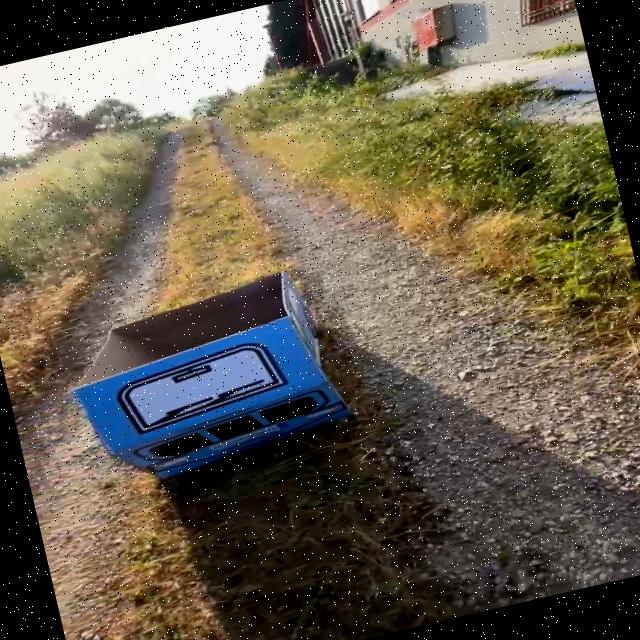blue_car: (25, 229, 408, 525)
